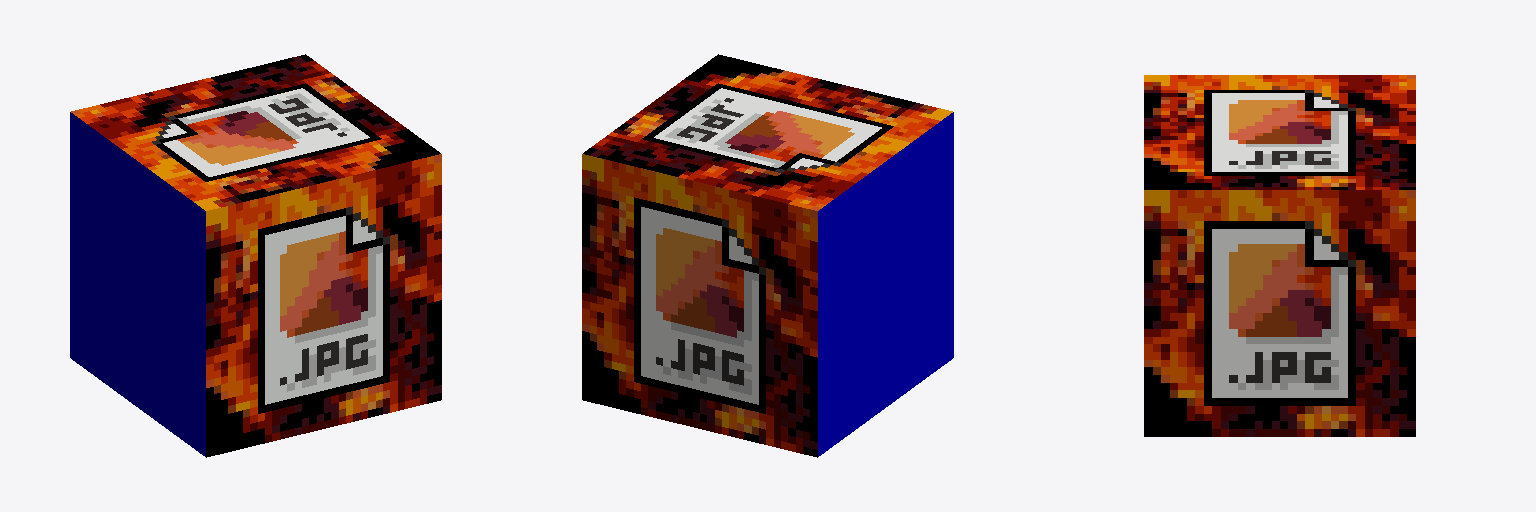
The picture shows the model from 3 angles: view 1: azimuth 30°, elevation 25°; view 2: azimuth 150°, elevation 25°; view 3: azimuth 270°, elevation 25°; orthographic projection.
Parts seen in each view (by area): view 1: Cube; view 2: Cube; view 3: Cube.
Boxes of the visible parts, x1=… form: Cube: x1=70, y1=54, x2=441, y2=457; Cube: x1=582, y1=54, x2=953, y2=457; Cube: x1=1144, y1=75, x2=1415, y2=436.
Size of the model in its own units: 2 by 2 by 2.
2 materials, 1 textured.